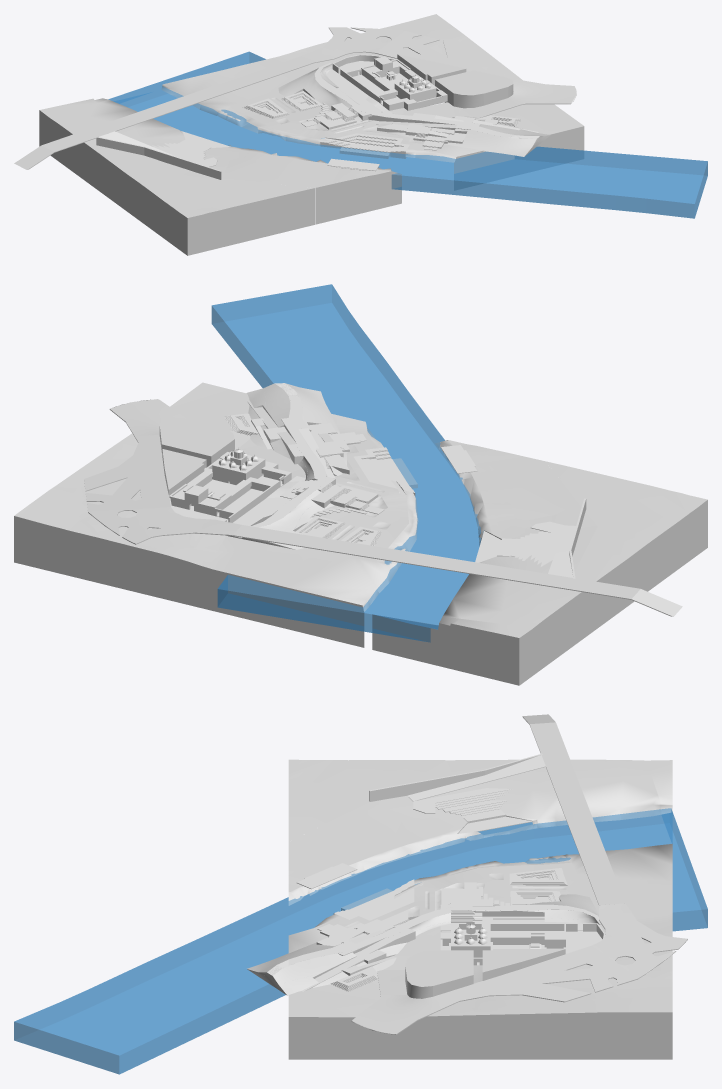
Rendered from thesis-model.gltf.
3 views of the same model, one above another, from view 1: azimuth 30°, elevation 25°; view 2: azimuth 150°, elevation 25°; view 3: azimuth 270°, elevation 25° (orthographic). The views are drawn at different scales.
Parts seen in each view (by area): view 1: elementName.011, elementName.007, elementName.013, elementName.001, elementName.020, elementName.019, elementName, elementName.010, elementName.002, elementName.021, elementName.016, elementName.003 (+5 smaller); view 2: elementName.011, elementName.007, elementName.013, elementName.001, elementName.020, elementName.019, elementName.010, elementName.002, elementName, elementName.021, elementName.016, elementName.003 (+3 smaller); view 3: elementName.011, elementName.007, elementName.001, elementName.013, elementName.020, elementName.019, elementName.002, elementName, elementName.010, elementName.021, elementName.004, elementName.016 (+6 smaller).
Part boxes in pixels (x1,y1,x2,y2): elementName.011: [108, 51, 707, 218]; elementName.007: [40, 14, 583, 217]; elementName.013: [39, 110, 584, 255]; elementName.001: [14, 24, 576, 169]; elementName.020: [152, 69, 521, 171]; elementName.019: [210, 158, 364, 212]; elementName: [397, 38, 522, 108]; elementName.010: [321, 113, 538, 170]; elementName.002: [203, 91, 382, 184]; elementName.021: [332, 54, 447, 110]; elementName.016: [314, 63, 516, 148]; elementName.003: [339, 57, 445, 110]; elementName.011: [211, 284, 484, 642]; elementName.007: [14, 382, 707, 637]; elementName.013: [14, 500, 707, 685]; elementName.001: [32, 399, 682, 616]; elementName.020: [224, 413, 564, 566]; elementName.019: [482, 447, 678, 520]; elementName.010: [230, 400, 476, 495]; elementName.002: [310, 442, 580, 561]; elementName: [55, 417, 234, 495]; elementName.021: [169, 451, 291, 522]; elementName.016: [250, 394, 378, 527]; elementName.003: [172, 453, 288, 521]; elementName.011: [14, 808, 707, 1074]; elementName.007: [247, 759, 672, 1017]; elementName.001: [351, 714, 687, 1034]; elementName.013: [288, 1012, 672, 1059]; elementName.020: [297, 788, 582, 991]; elementName.019: [288, 774, 420, 874]; elementName.002: [288, 795, 583, 915]; elementName: [405, 949, 588, 1015]; elementName.010: [297, 863, 423, 991]; elementName.021: [440, 921, 605, 965]; elementName.004: [288, 819, 537, 905]; elementName.016: [288, 904, 600, 988].
Bounding box in the file's own units: 379 × 39.41 × 332.
